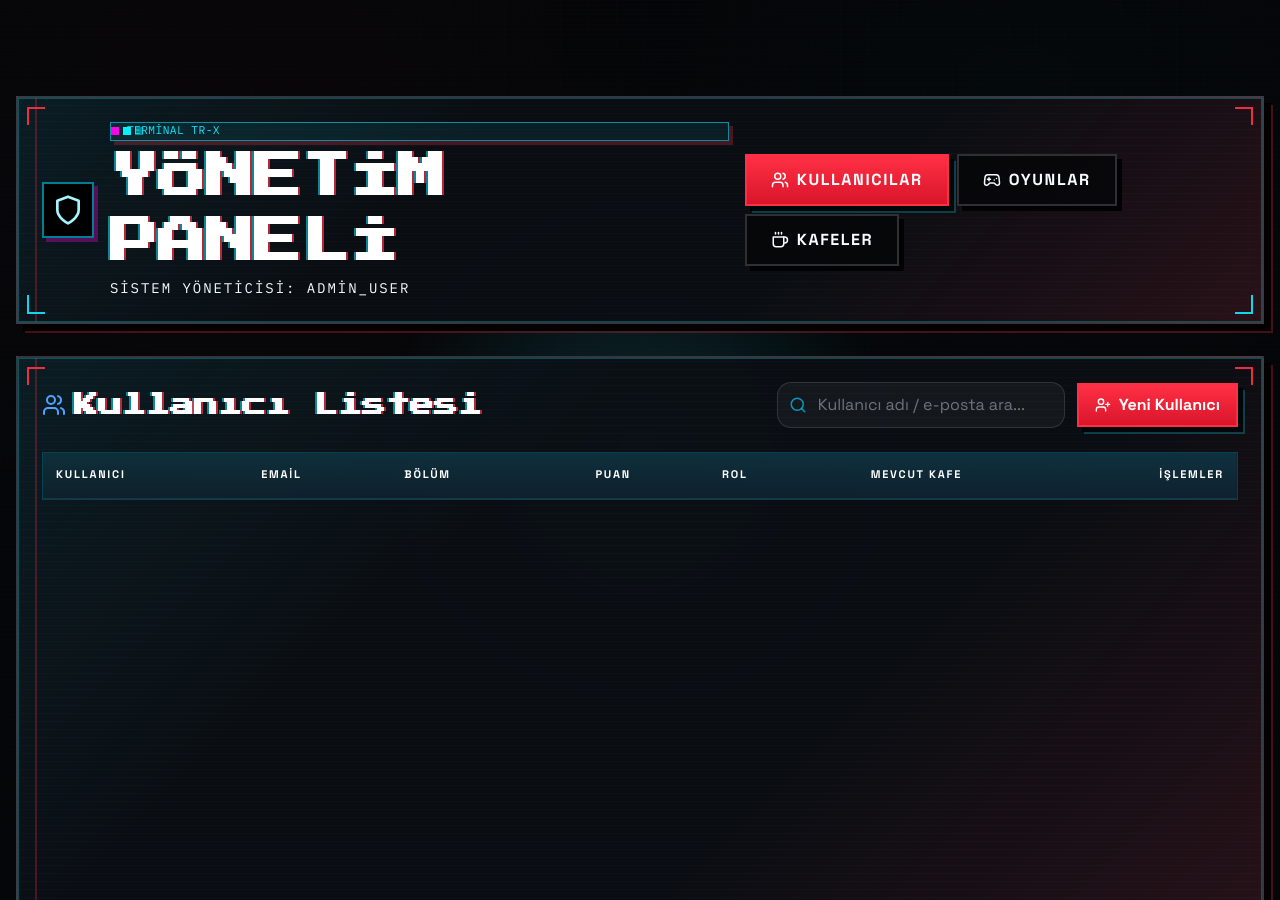
it: AdminDashboard › switches to games tab when clicked
Expected: the heading "Kullanıcı Listesi" is shown, [42, 389, 482, 422]
Click the button "Oyunlar" at [1037, 180], box [957, 154, 1117, 206]
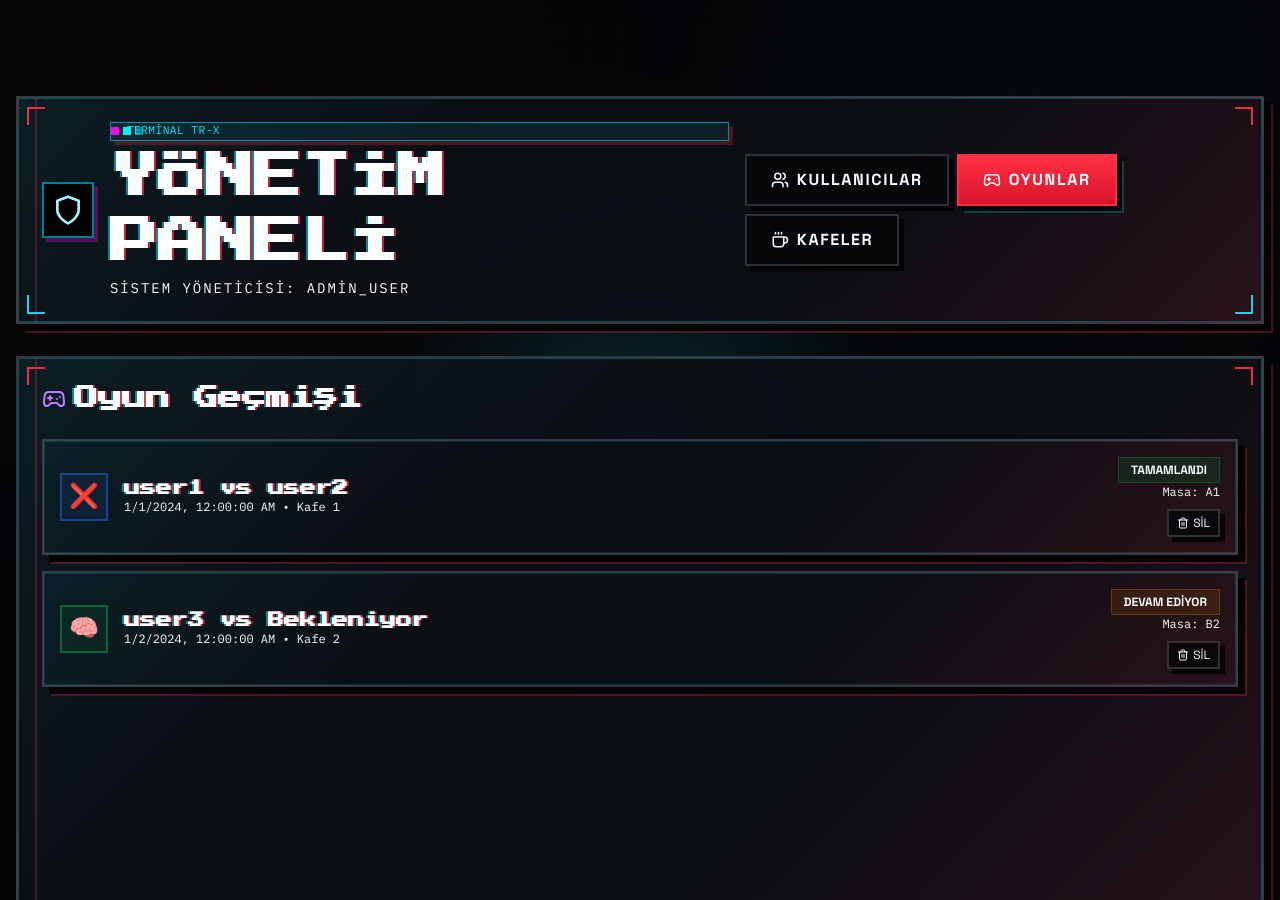
Expected: the heading "Oyun Geçmişi" is shown, [42, 386, 362, 411]
Expected: the heading "user1 vs user2" is shown, [124, 478, 348, 500]
